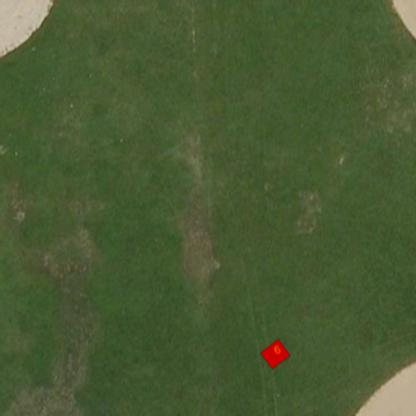6: (273, 344, 282, 355)
rectangle: (258, 338, 291, 370)
